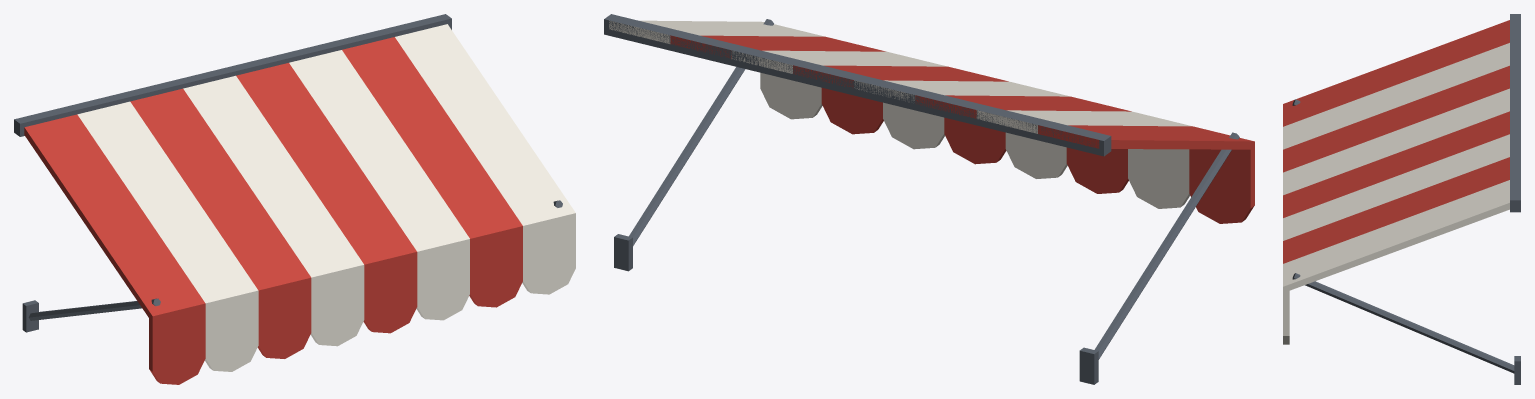
Rendered from awning_small.glb.
3 renders of one model, left to right at view 1: azimuth 30°, elevation 25°; view 2: azimuth 150°, elevation 25°; view 3: azimuth 270°, elevation 25°, orthographic. The views are drawn at different scales.
Visible parts, largest first — view 1: awning_small; view 2: awning_small; view 3: awning_small.
Boxes of the visible parts, <box> form: awning_small: <box>14,14,575,384</box>; awning_small: <box>604,14,1254,384</box>; awning_small: <box>1283,14,1520,384</box>.
Bounding box in the file's own units: 2.04 × 0.96 × 1.1.
